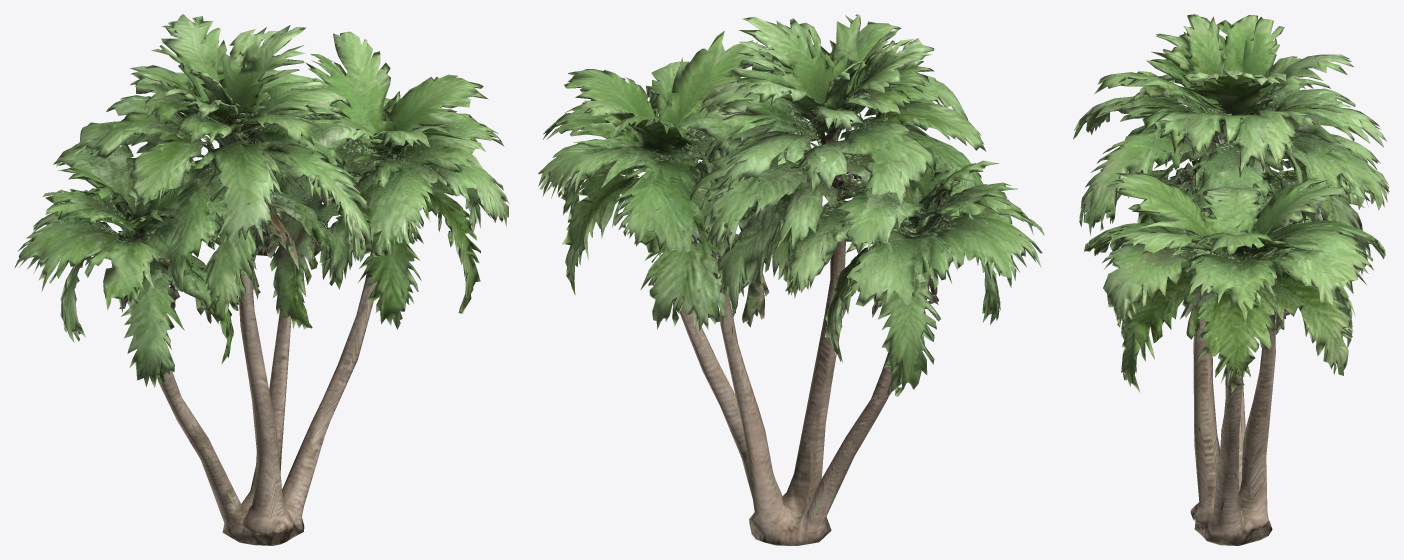
Rendered from acai.glb.
The picture shows the model from 3 angles, left to right: view 1: azimuth 30°, elevation 25°; view 2: azimuth 150°, elevation 25°; view 3: azimuth 270°, elevation 25°; orthographic projection. The views are drawn at different scales.
Visible parts, largest first — view 1: lod0; view 2: lod0; view 3: lod0.
Part boxes in pixels (x1=…): lod0: x1=14, y1=14, x2=509, y2=545; lod0: x1=538, y1=14, x2=1044, y2=545; lod0: x1=1073, y1=14, x2=1389, y2=545.
Size of what is drawn, in the model's own units: 4.46 by 4.49 by 2.72.
Materials: 1 (1 with a texture image).
